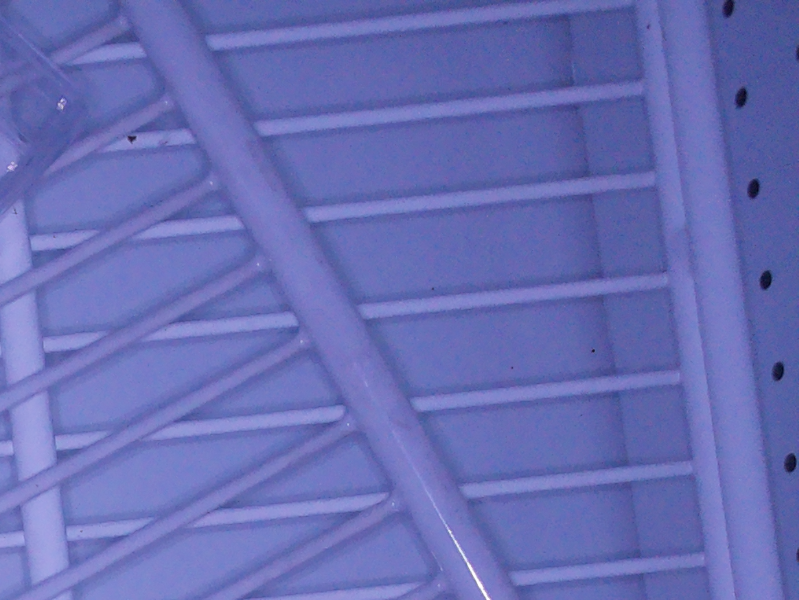plate: (1, 14, 89, 216)
